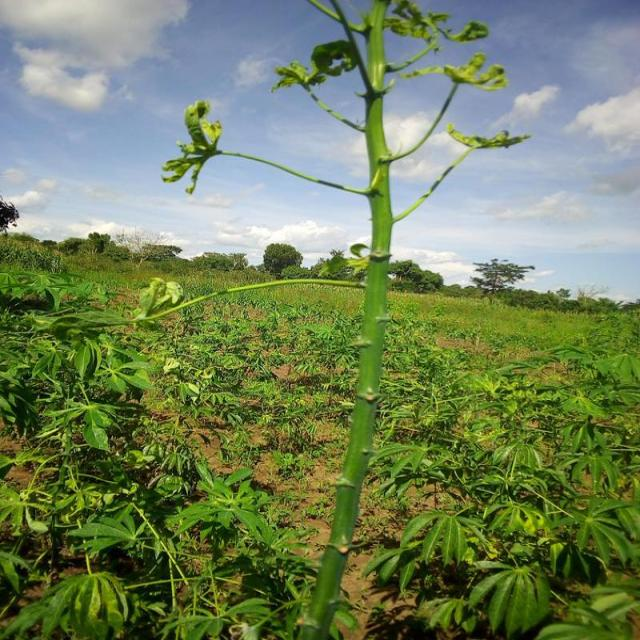cassava leaf: (135, 276, 184, 320)
